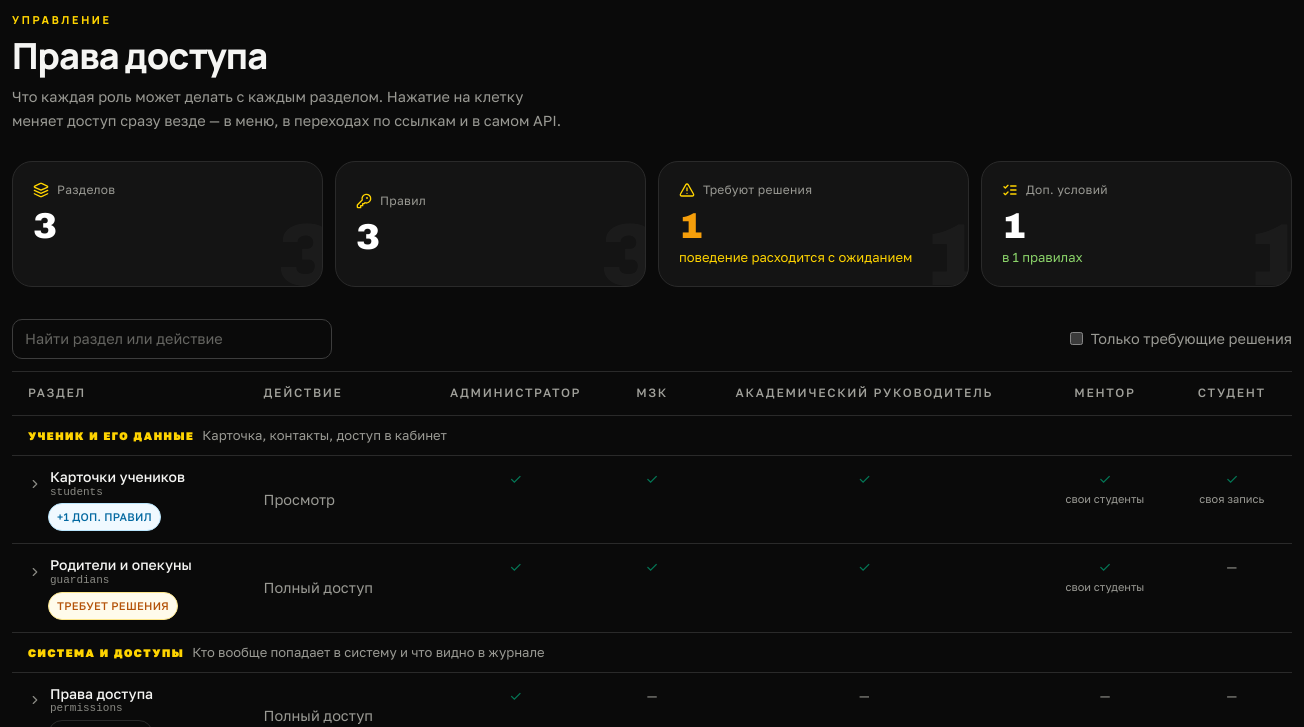
it: матрица прав › фильтрует до правил, требующих решения
Expected: the text "students" is shown, x1=50 y1=486 x2=103 y2=498
What coordinates should you click on to do the following:
click the checkbox labelled "Только требующие решения"
I would click on:
 (1076, 338)
Its box is x1=1070 y1=332 x2=1083 y2=345.
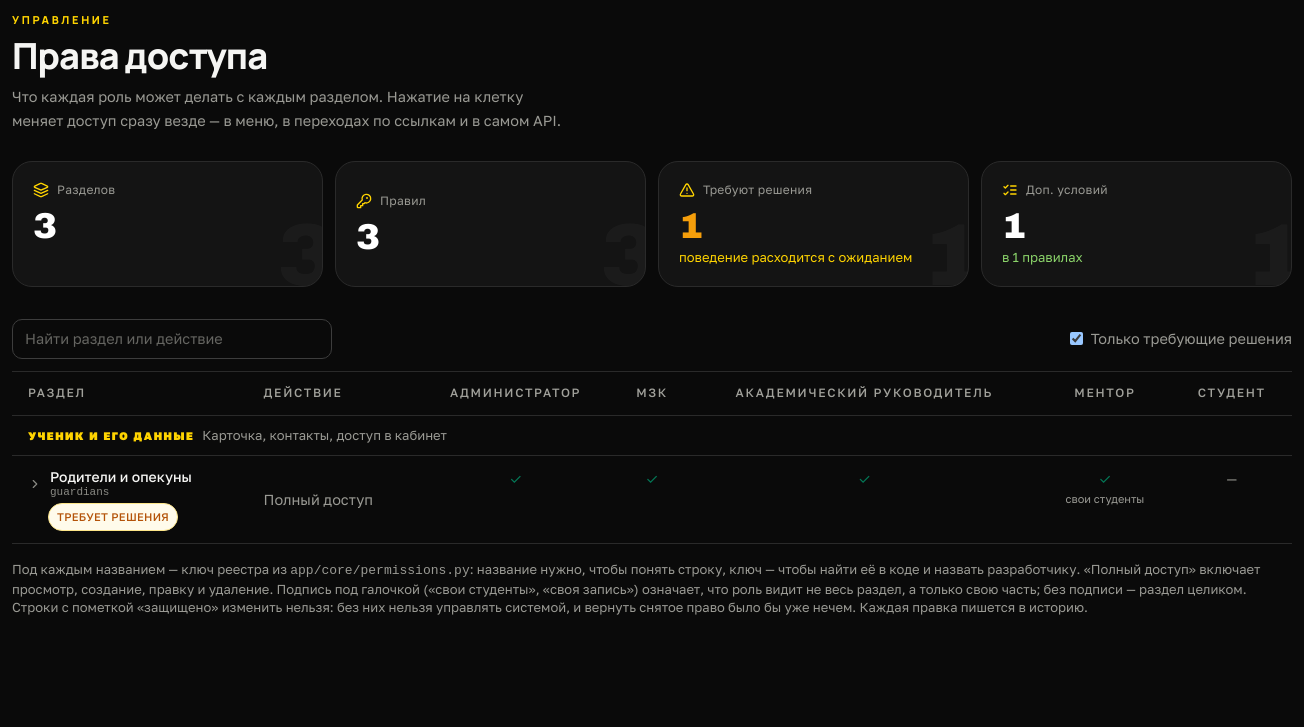
Expected: the text "guardians" is shown, x1=50 y1=486 x2=109 y2=498
Now the text "students" is gone
